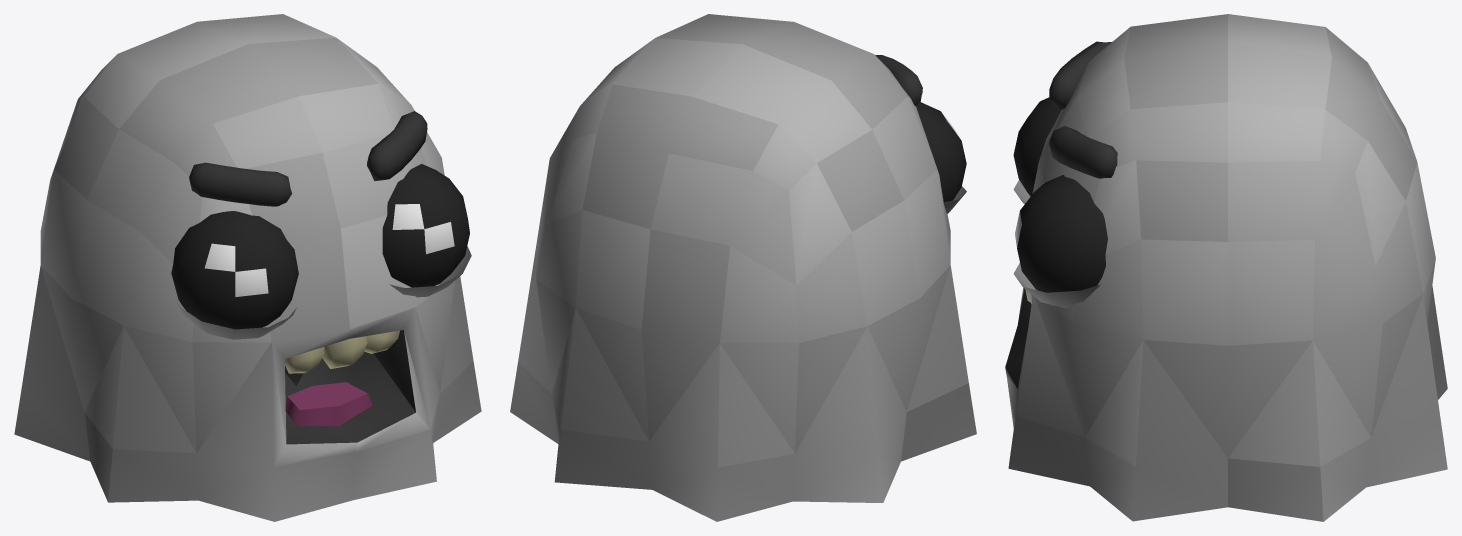
Rendered from yurei.glb.
3 views of the same model, side by side, from view 1: azimuth 30°, elevation 25°; view 2: azimuth 150°, elevation 25°; view 3: azimuth 270°, elevation 25° (orthographic).
Parts seen in each view (by area): view 1: Sway, Body; view 2: Sway, Body; view 3: Sway, Body.
Part boxes in pixels (x1=…): Sway: x1=40, y1=14, x2=471, y2=452; Body: x1=14, y1=111, x2=481, y2=521; Sway: x1=536, y1=14, x2=966, y2=453; Body: x1=510, y1=55, x2=976, y2=521; Sway: x1=1013, y1=14, x2=1435, y2=457; Body: x1=1005, y1=41, x2=1447, y2=521.
Size of the model in its own units: 1.49 by 1.45 by 1.51.
